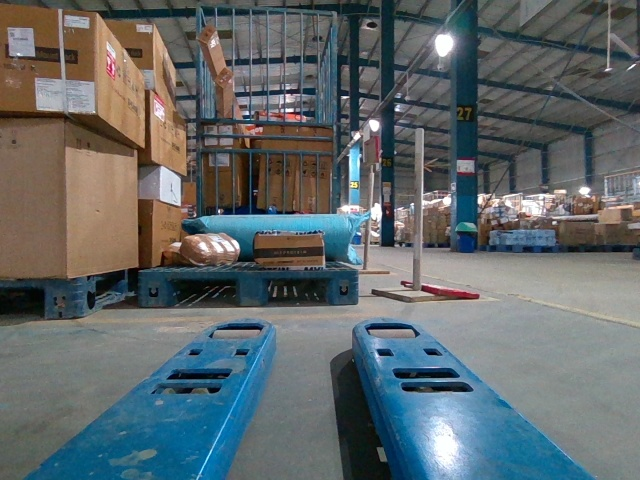block: (137, 272, 172, 308), (239, 270, 269, 309), (330, 269, 356, 305)
front: (139, 270, 359, 306)
hole pallet: (167, 277, 241, 308), (265, 276, 332, 304)
